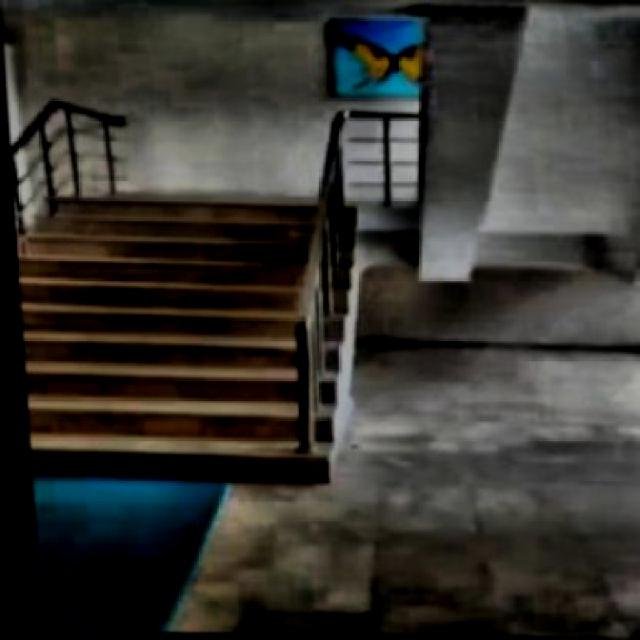stair: (12, 190, 383, 488)
